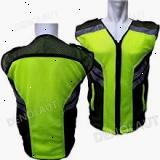Vest: (0, 32, 94, 160), (74, 18, 160, 135)
